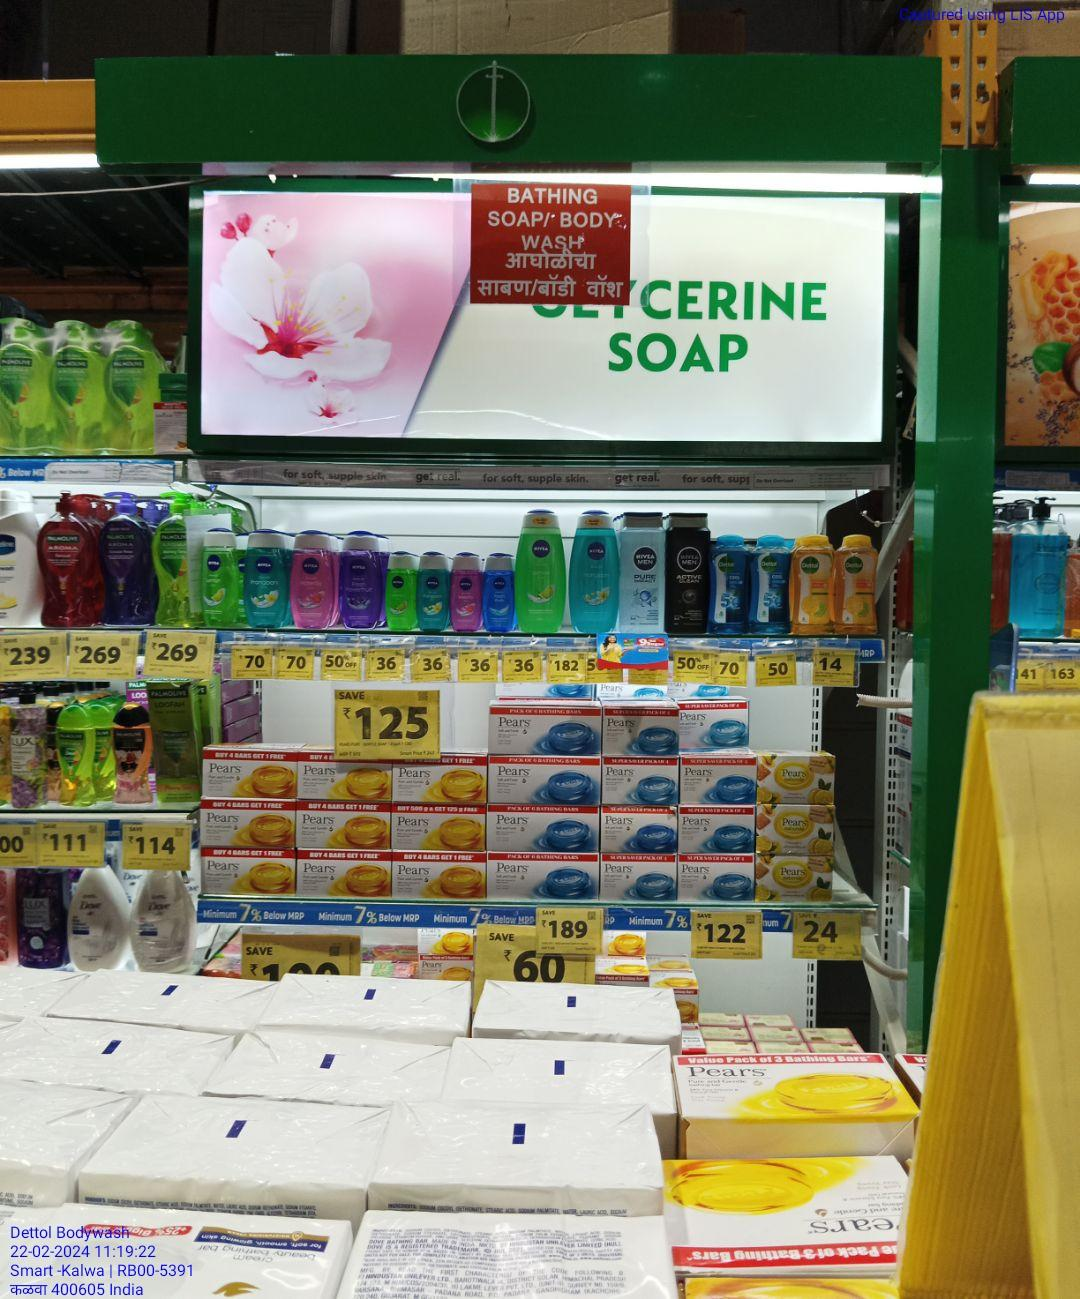Dettol_Bodywash_Cool: (714, 532, 752, 634), (755, 532, 785, 635)
Dettol_Bodywash_Refresh: (792, 532, 835, 632), (838, 533, 876, 634)
Nivea_Shower_Gel_Frangipani_and_Oil_250ML: (571, 511, 617, 629), (245, 525, 288, 631)
Nivea_Shower_Gel_Fresh_Powerfruit_250ML: (339, 531, 379, 629)
Nivea_Shower_Gel_Lemon_and_Oil_250ML: (517, 511, 566, 631), (200, 528, 241, 626)
Nivea_Shower_Gel_Waterlily_and_Oil_250ML: (290, 529, 332, 626)
Palmolive_Luminous_Oils_With_White_Orchid_Shower_Gel_250ML: (111, 702, 151, 804)
